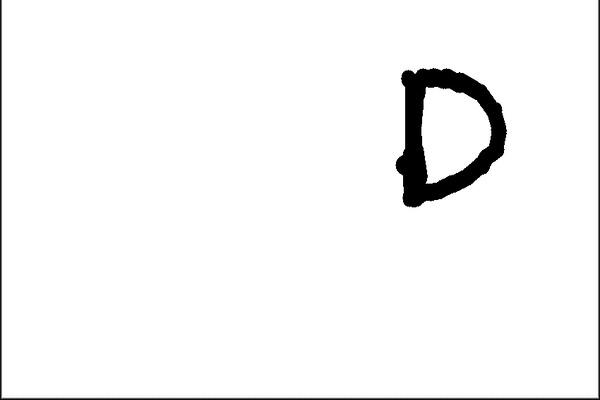D: (388, 56, 513, 210)
